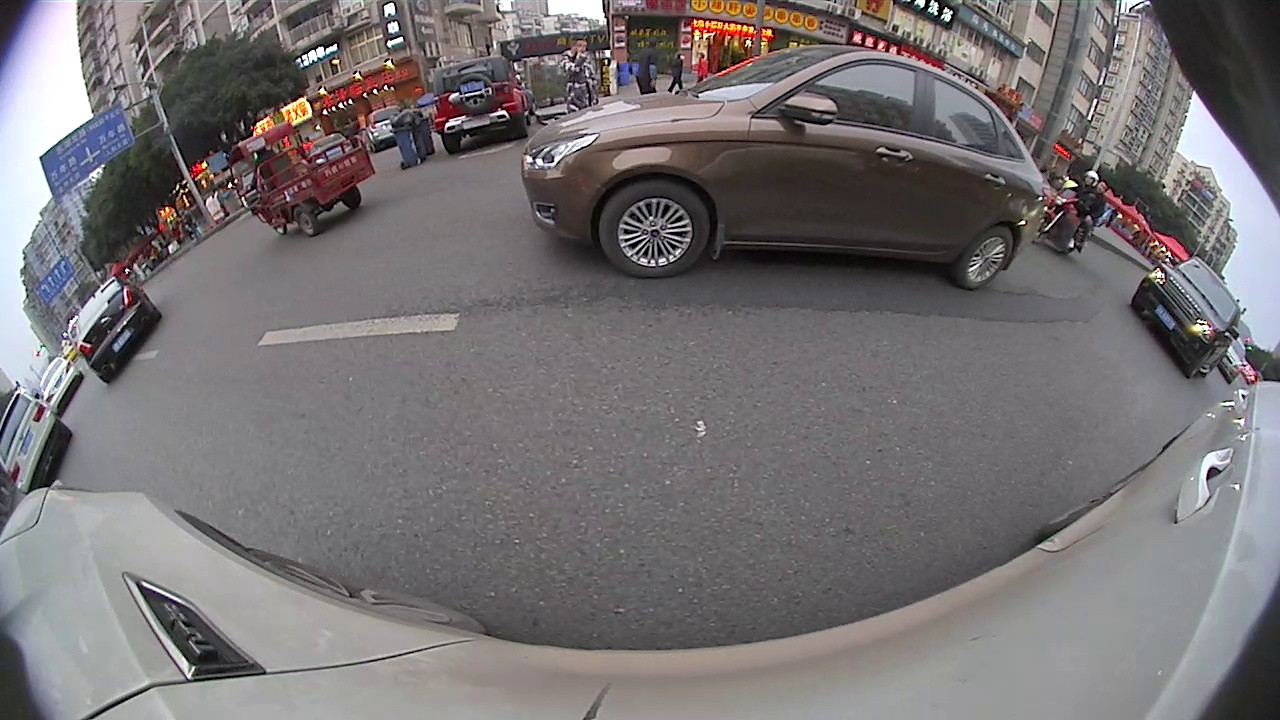car: (519, 38, 1054, 294), (1127, 251, 1246, 379), (426, 56, 536, 160), (69, 271, 164, 385), (0, 382, 73, 496), (37, 353, 86, 418)
front: (595, 177, 713, 282)
rear: (950, 226, 1016, 292), (291, 204, 320, 239)
rider: (226, 120, 379, 243), (1036, 164, 1111, 261)
